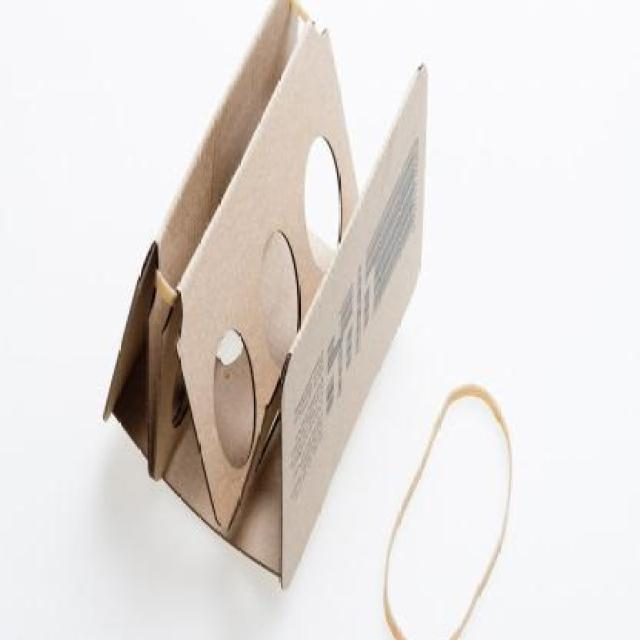box: (85, 0, 448, 611)
